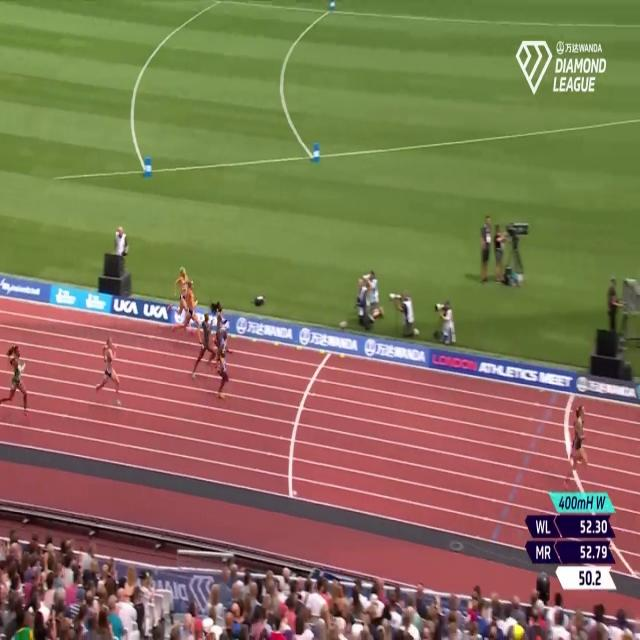athlete: (559, 387, 596, 488), (90, 331, 123, 421), (1, 338, 31, 424), (208, 292, 232, 378), (192, 312, 215, 385), (176, 274, 201, 338), (214, 325, 232, 402), (169, 258, 187, 333)
